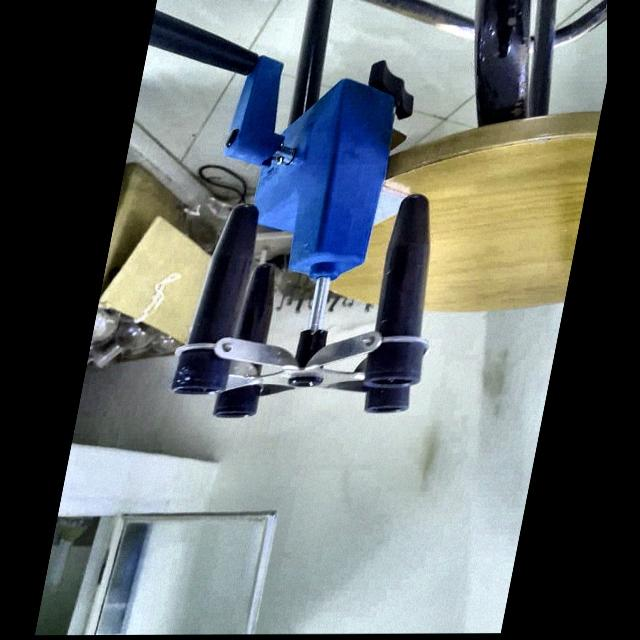Centrifuge: (133, 49, 486, 430)
